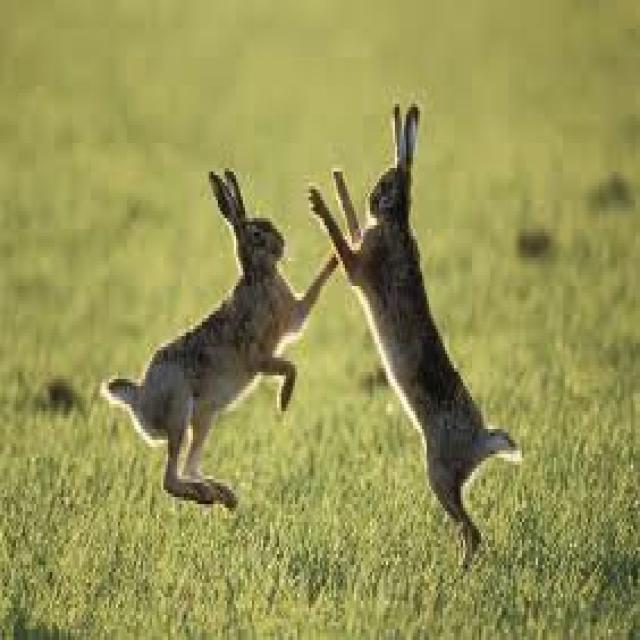hare: (309, 104, 520, 558), (100, 168, 336, 504)
